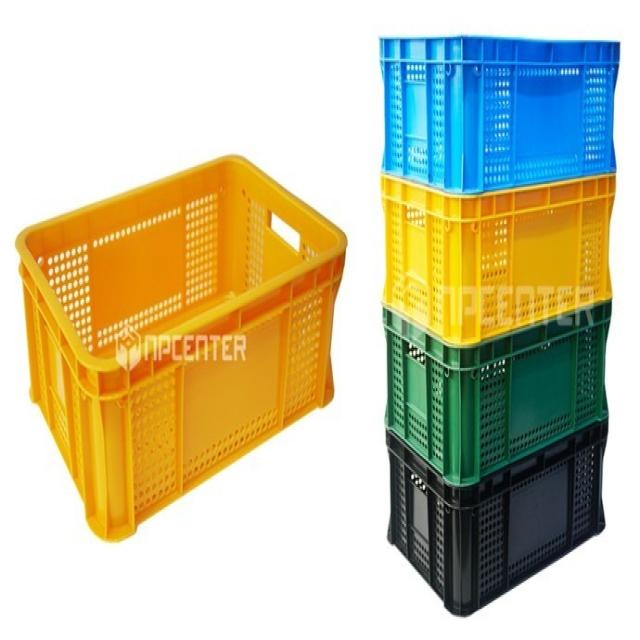basket: (0, 118, 420, 550), (384, 418, 619, 619), (381, 300, 613, 489), (382, 173, 617, 344), (381, 32, 624, 195)
